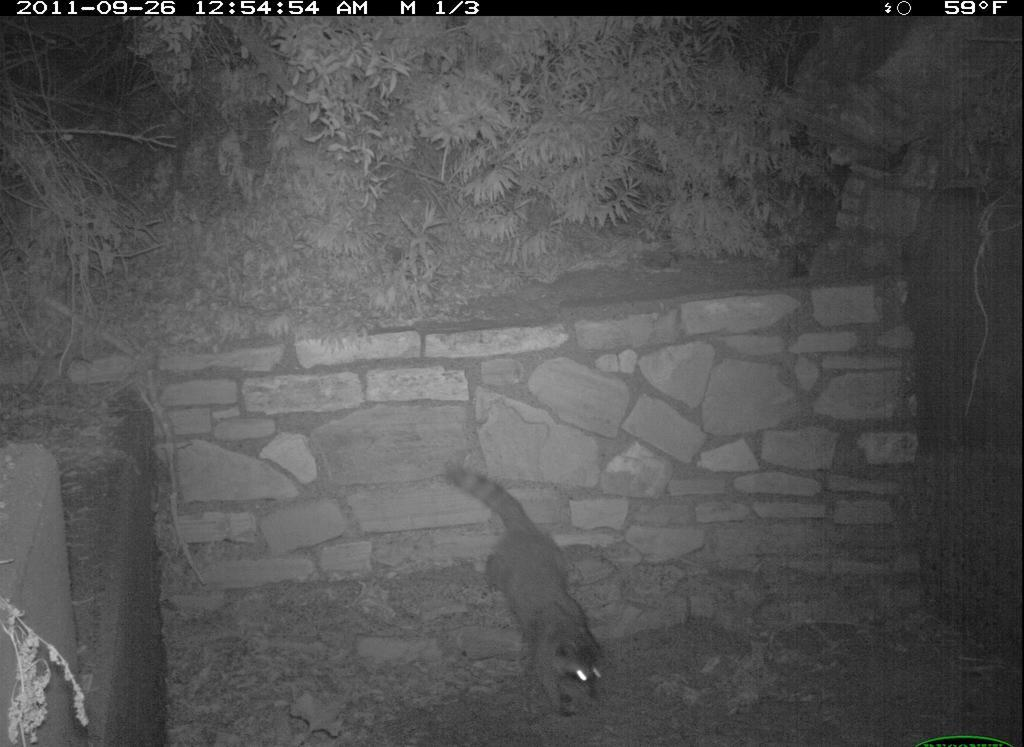raccoon: (441, 447, 623, 717)
